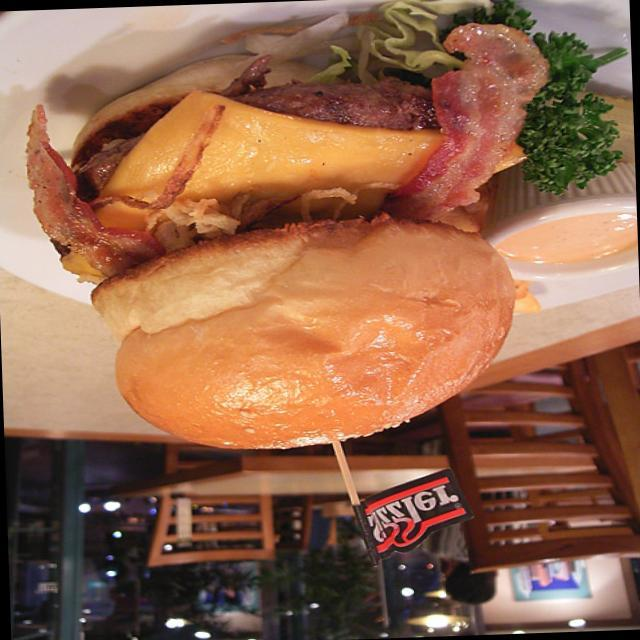Hamburger: (20, 0, 592, 462)
